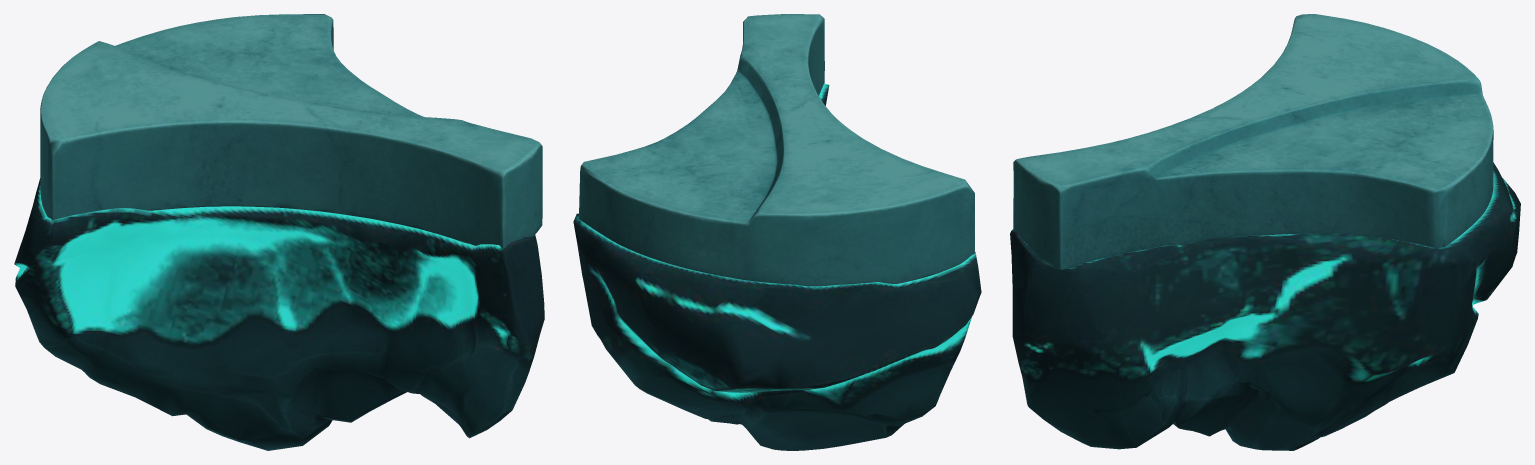
File: sky_rock_02a1_soma.glb
3 views of the same model, side by side, from view 1: azimuth 30°, elevation 25°; view 2: azimuth 150°, elevation 25°; view 3: azimuth 270°, elevation 25° (orthographic). The views are drawn at different scales.
Visible parts, largest first — view 1: rock_02a1; view 2: rock_02a1; view 3: rock_02a1.
Boxes of the visible parts, x1=… form: rock_02a1: x1=14, y1=14, x2=544, y2=450; rock_02a1: x1=573, y1=14, x2=981, y2=450; rock_02a1: x1=1010, y1=14, x2=1520, y2=450.
Bounding box in the file's own units: 37.61 × 32.04 × 44.02.
1 material, 1 textured.
